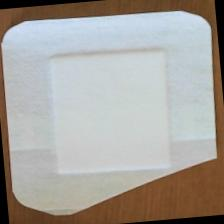Cut: (1, 3, 224, 224)
